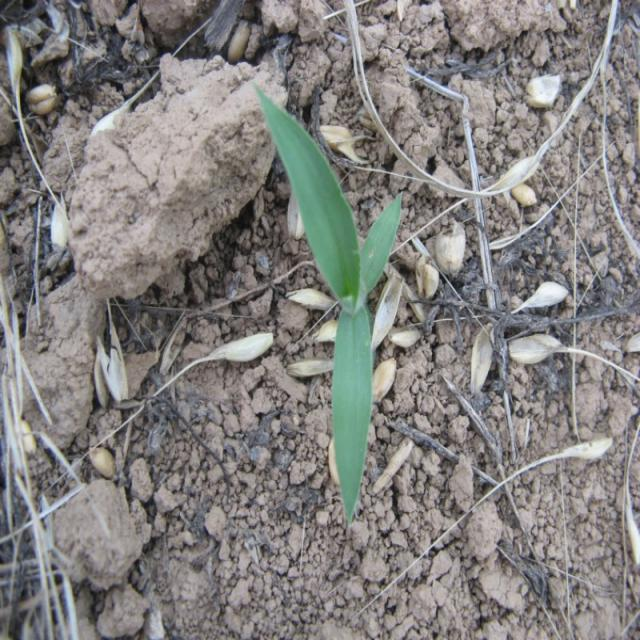bg: (251, 82, 406, 525)
